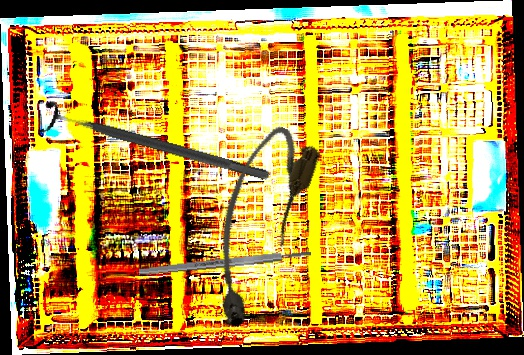Cannula: (186, 118, 326, 335)
Fixation Ring: (37, 98, 274, 194)
Scalpel Handle: (138, 248, 312, 277)
